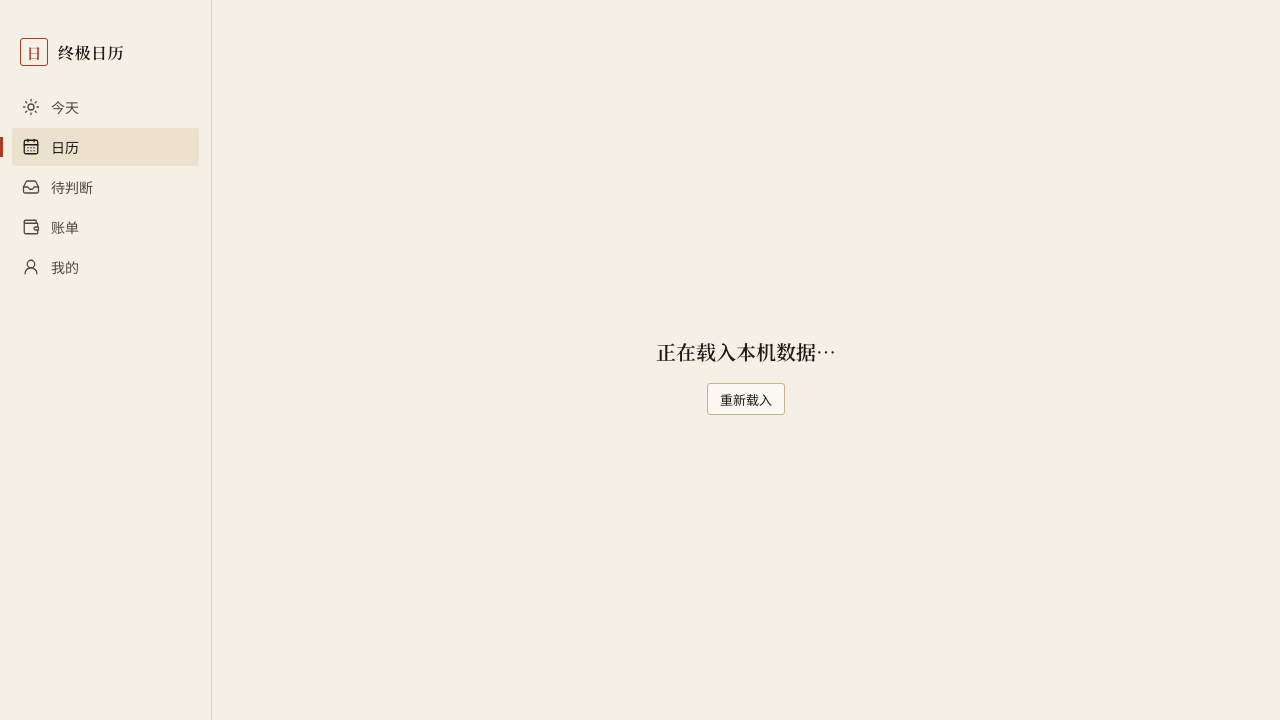
Test: shows host pages and listens for tray navigation when the host is present
This screenshot has width=1280, height=720.
What coordinates should you click on to do the following:
click the button "我的"
I would click on:
 (106, 267)
Its box is [12,248,199,286].
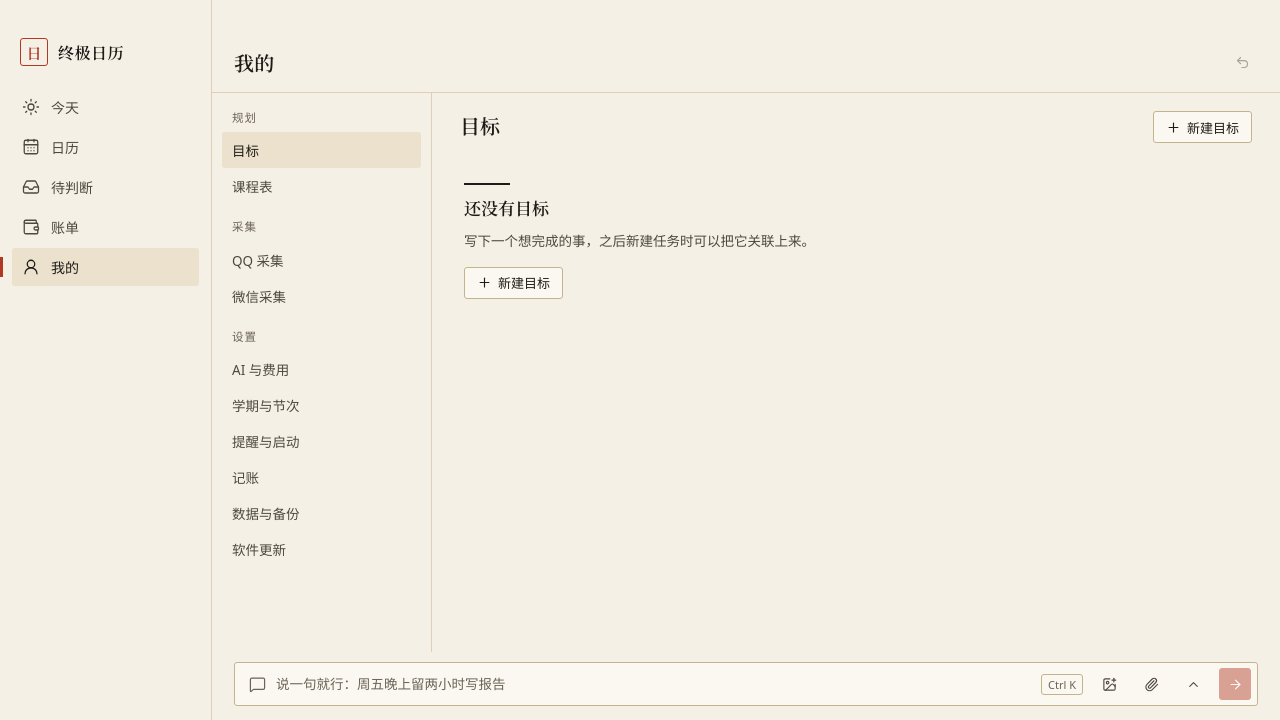
Expected: the button "QQ 采集" is shown, [222,242,421,278]
Expected: the button "AI 与费用" is shown, [222,351,421,387]
